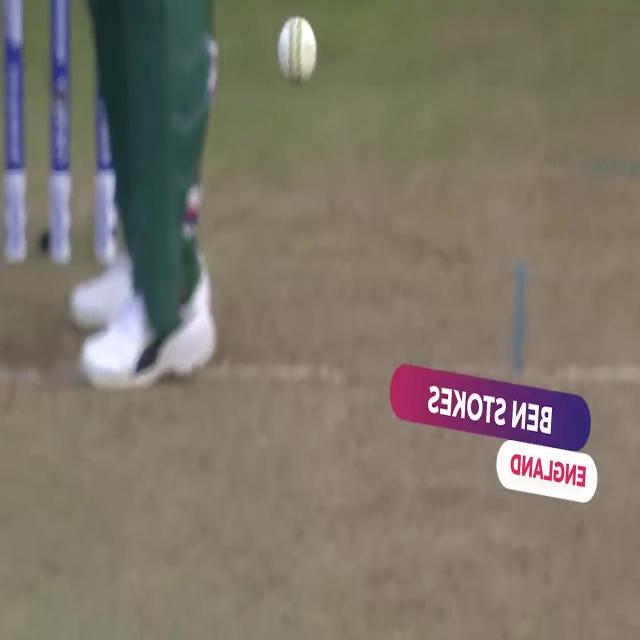ball: (274, 11, 322, 90)
